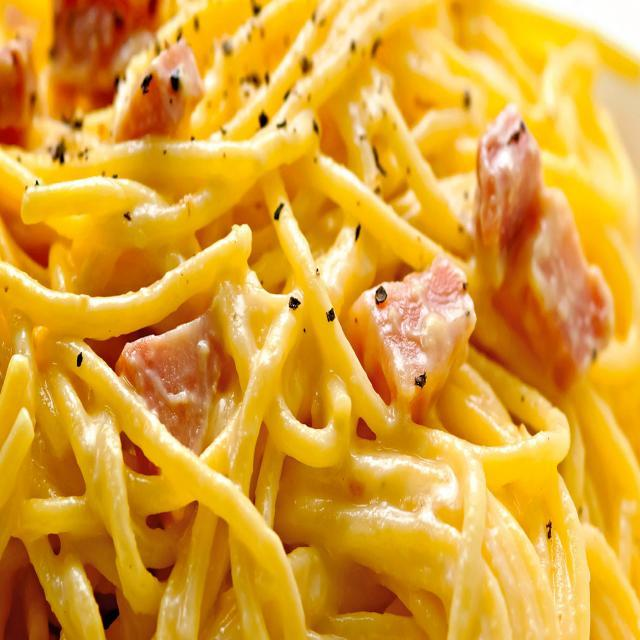Pasta with carbonara sauce: (5, 18, 629, 640)
